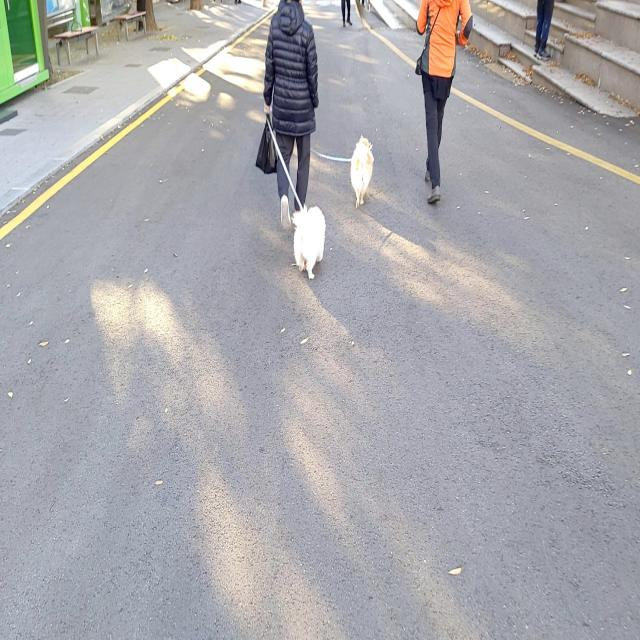Leashed_Dog: (298, 132, 375, 282), (276, 143, 326, 283)
